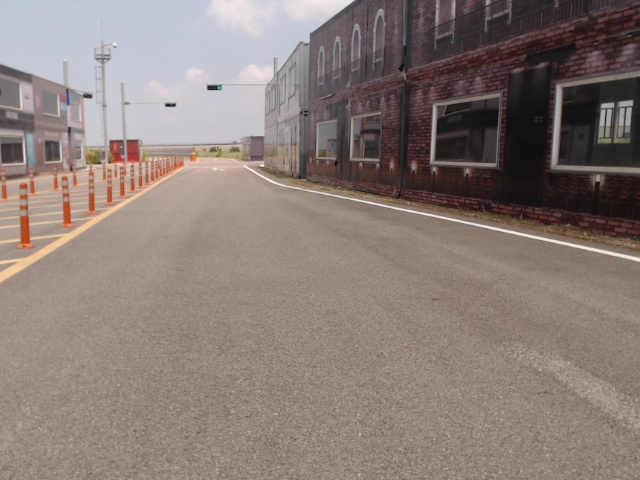green_3: (207, 84, 223, 91)
